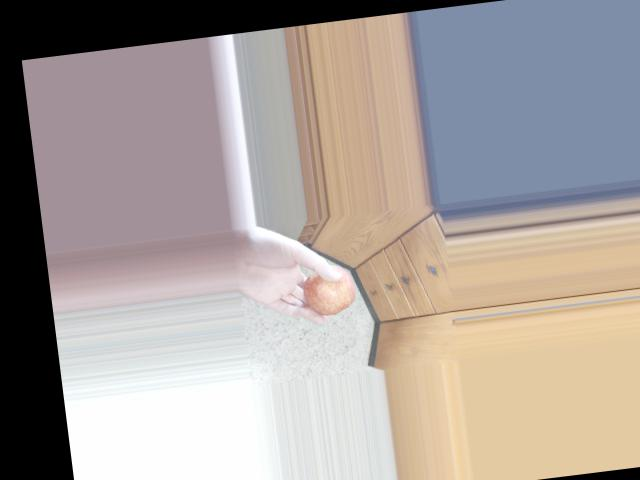apple: (290, 254, 364, 322)
